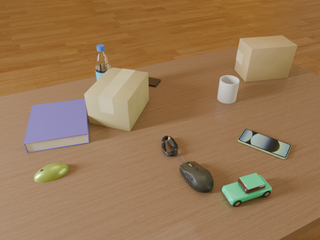book: (24, 99, 89, 153)
bottle: (95, 44, 111, 80)
box: (84, 67, 149, 131), (235, 36, 297, 82)
cup: (217, 75, 239, 104)
mouse: (179, 161, 213, 193), (34, 163, 69, 182)
phone: (238, 129, 291, 159), (148, 77, 161, 87)
toy_car: (222, 173, 272, 207)
